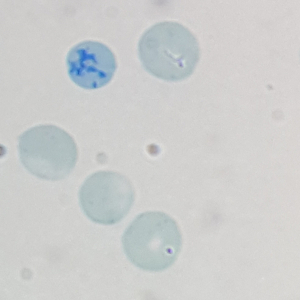aggregate reticulocyte: (64, 39, 119, 91)
erythrocyte: (136, 20, 202, 83)
punctate reticulocyte: (122, 209, 184, 273), (16, 123, 80, 183), (77, 169, 138, 227)
